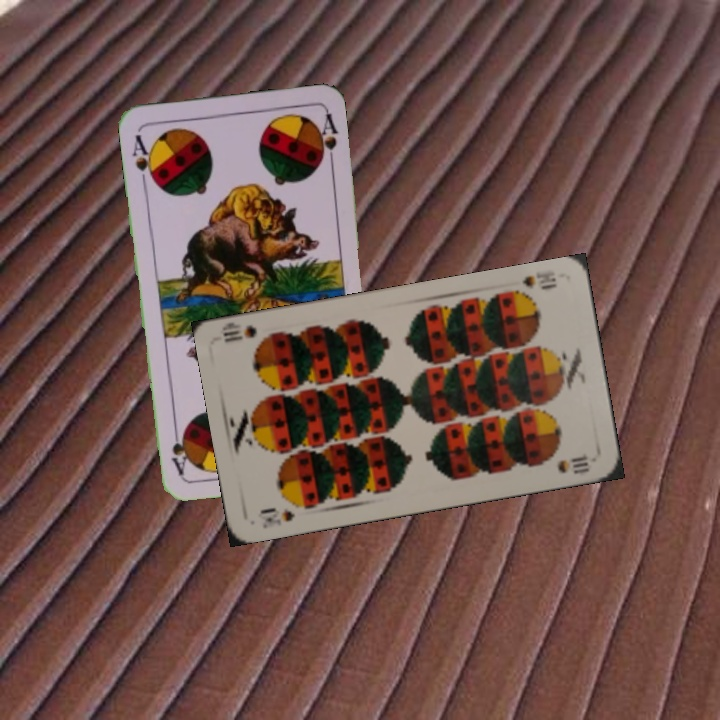S10: (505, 267, 559, 300), (259, 505, 297, 531)
SA: (128, 130, 158, 188)
